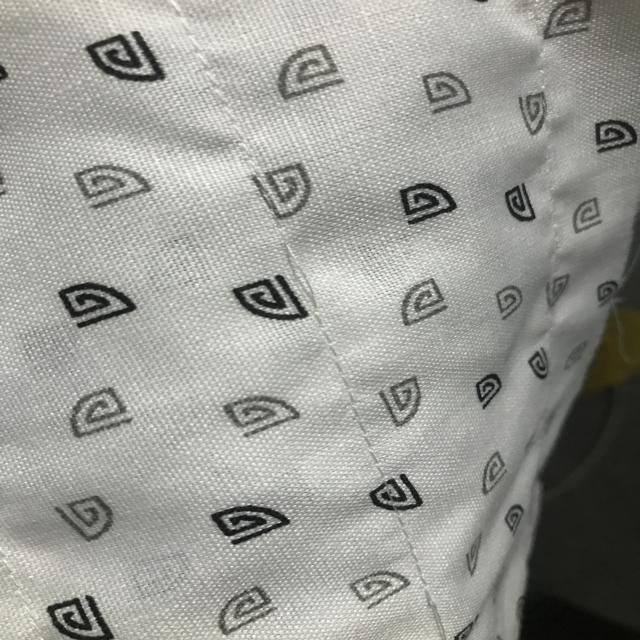good: (319, 344, 374, 430)
skip: (270, 237, 344, 316)
